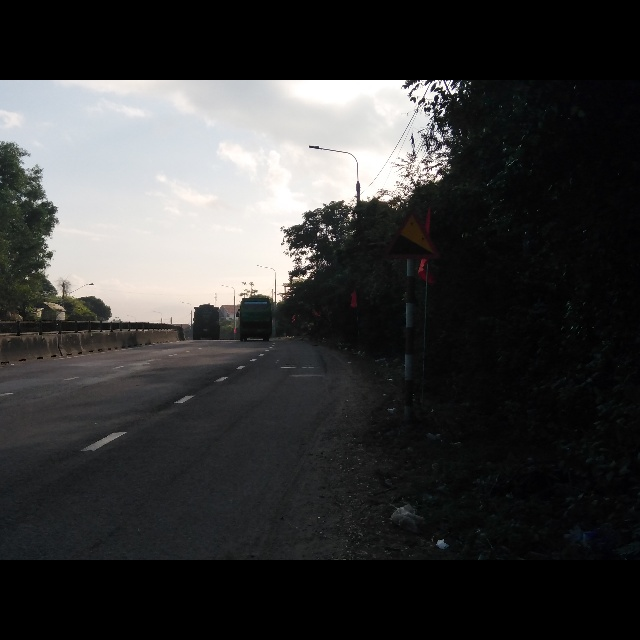Dốc lên nguy hiểm: (386, 212, 435, 259)
